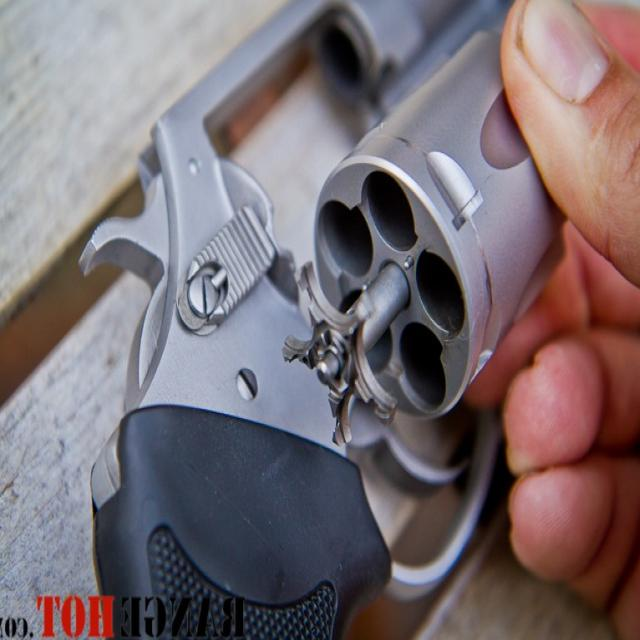Gun: (64, 0, 586, 640)
